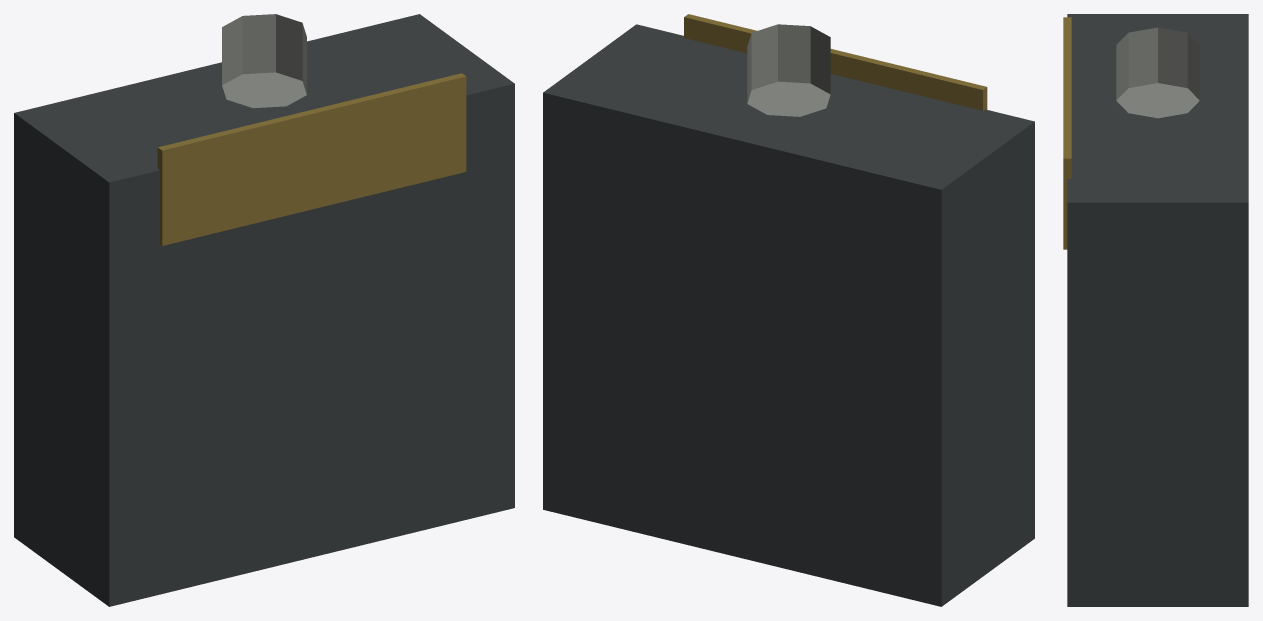
The model's file is mace_case.glb.
3 renders of one model, left to right at view 1: azimuth 30°, elevation 25°; view 2: azimuth 150°, elevation 25°; view 3: azimuth 270°, elevation 25°, orthographic. The views are drawn at different scales.
Visible parts, largest first — view 1: body; view 2: body; view 3: body.
Part boxes in pixels (box(x1,y1,x2,y2)): body: box(14, 14, 514, 606); body: box(543, 14, 1034, 606); body: box(1063, 14, 1248, 606).
Size of the model in its own units: 0.96 by 1.11 by 0.399.
1 material, 1 textured.
